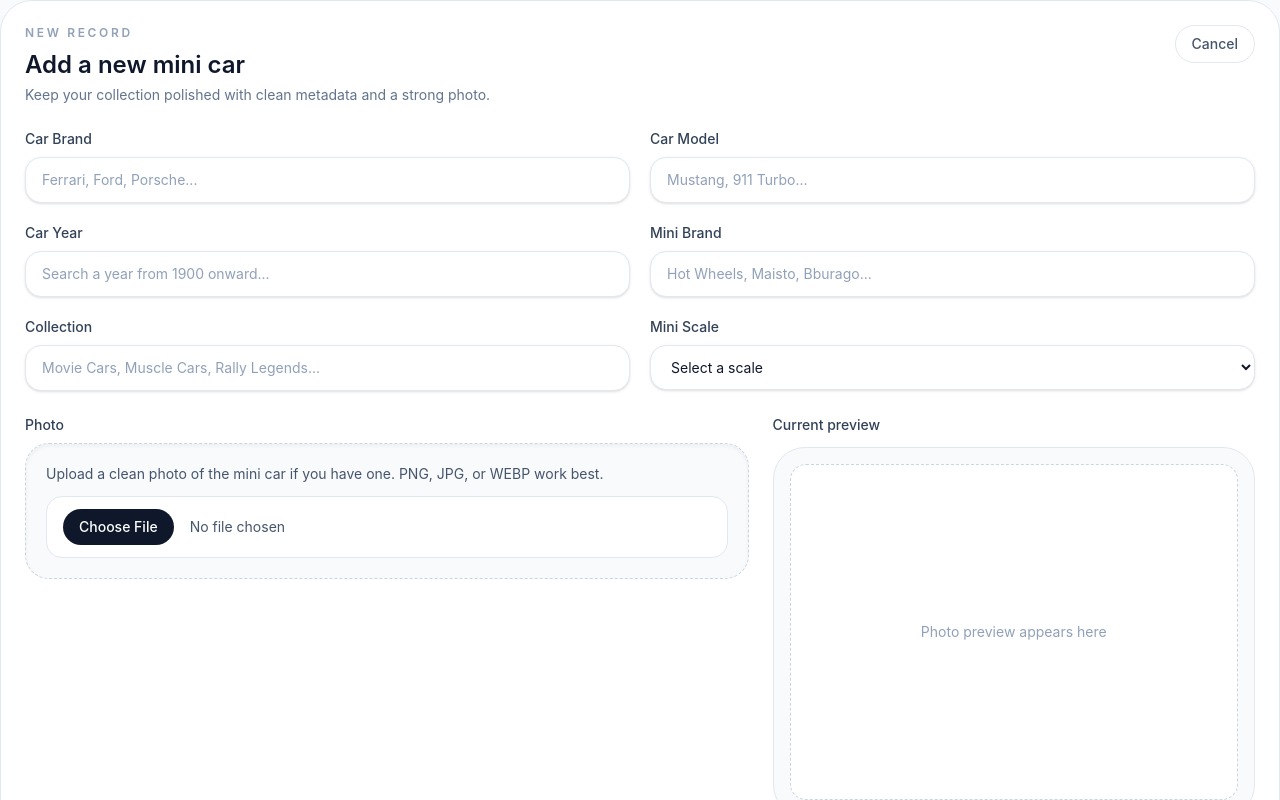
Test: MiniCarForm › uses a searchable dropdown for car year suggestions
Type "190" into the field labelled "Car Year".
click(328, 274); type("190")  # box [25, 251, 630, 297]
Wait 600 ms
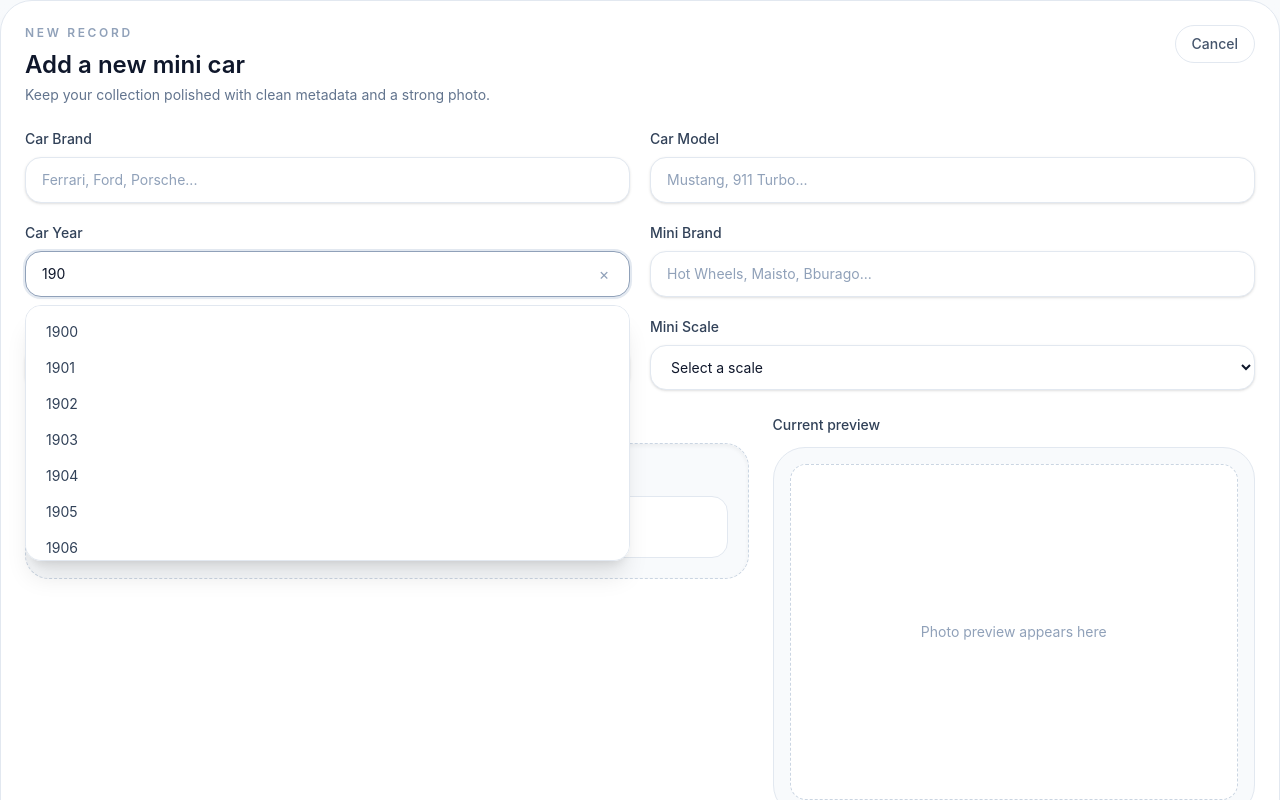
expect the button "1900" is shown: met, box [34, 314, 621, 350]
